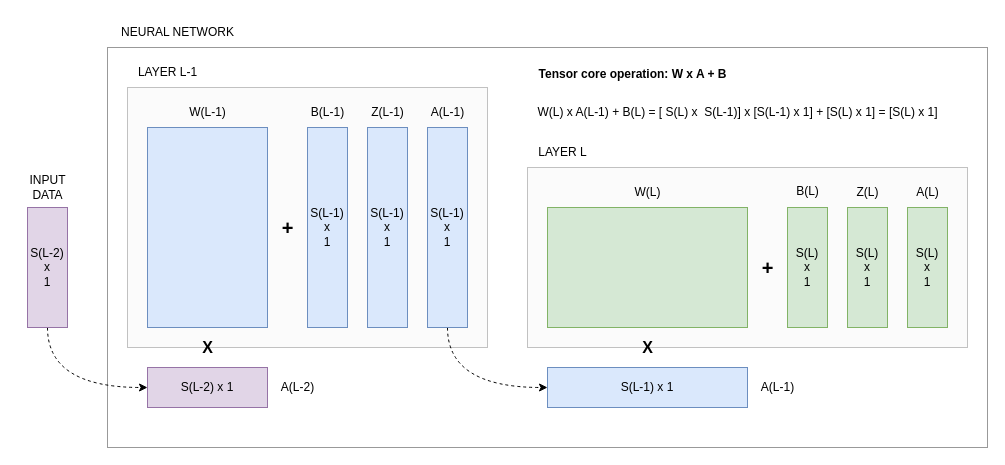
The diagram is 1005 pixels wide and 465 high, and some of its shapes have lost their labels. The centre of each missing label's shape, as x and y in pixels:
S(L) x S(L-1): point 647,267
S(L-1) x S(L-2): point 207,227
